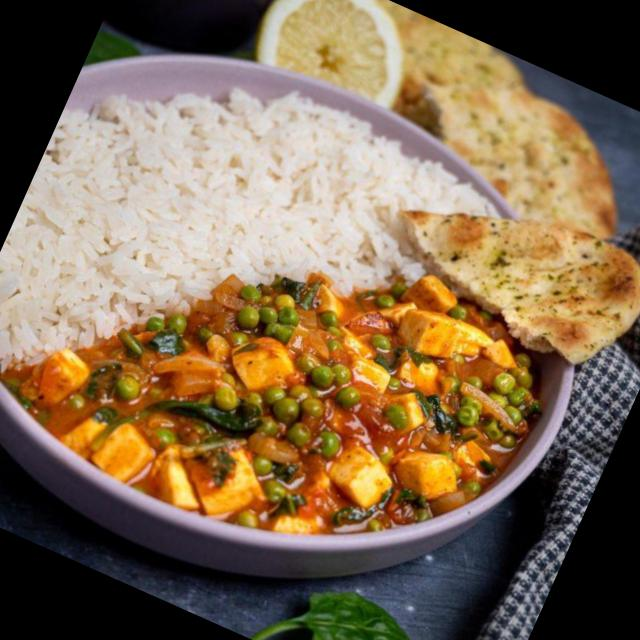rice: (0, 86, 488, 368)
